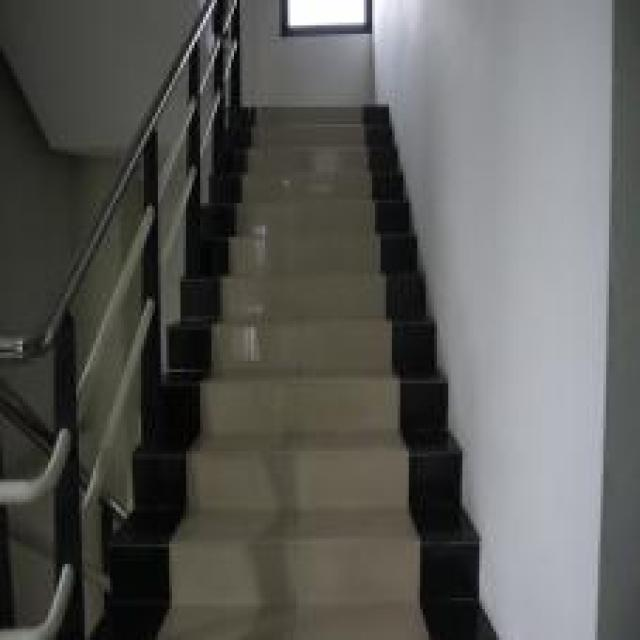upstair: (230, 105, 447, 638)
